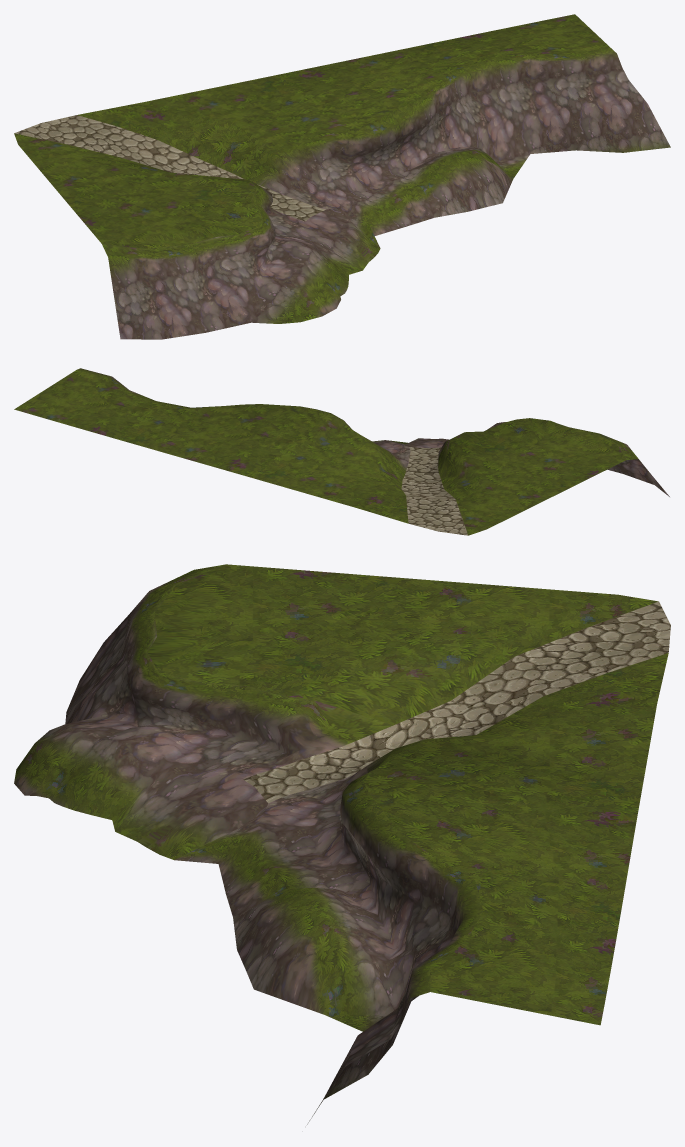
Rendered from Town004_NewTerrain_02.FBX.
3 views of the same model, one above another, from view 1: azimuth 30°, elevation 25°; view 2: azimuth 150°, elevation 25°; view 3: azimuth 270°, elevation 25° (orthographic). The views are drawn at different scales.
Visible parts, largest first — view 1: Town004_NewTerrain_02; view 2: Town004_NewTerrain_02; view 3: Town004_NewTerrain_02.
Part boxes in pixels (x1=…): Town004_NewTerrain_02: x1=14, y1=14, x2=670, y2=339; Town004_NewTerrain_02: x1=14, y1=368, x2=669, y2=535; Town004_NewTerrain_02: x1=14, y1=564, x2=670, y2=1124.
Bounding box in the file's own units: 6507 × 820 × 3796.
Materials: 3 (3 with a texture image).
